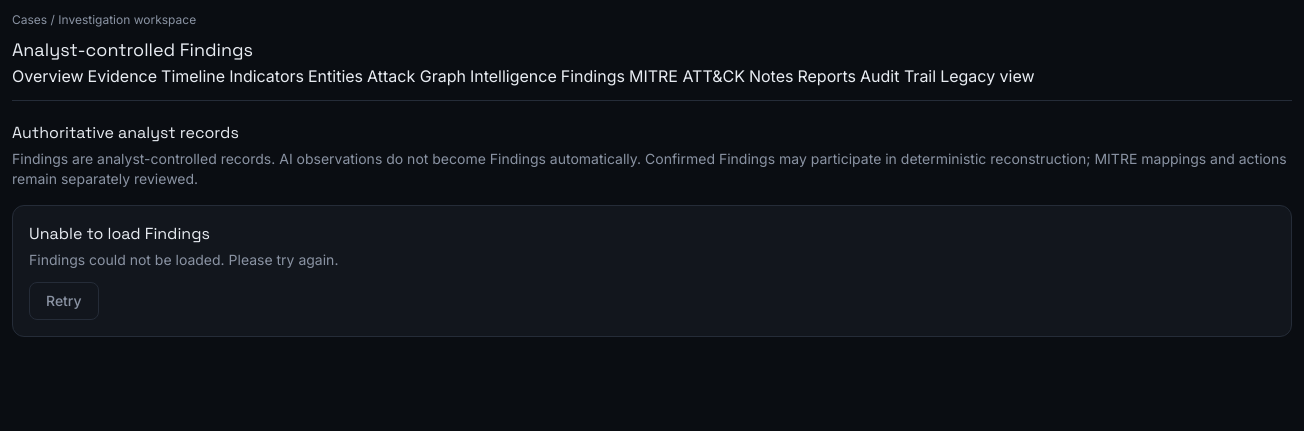
Test: FindingsWorkspace › offers a bounded retry without retaining prior list state
Expected: the heading "Unable to load Findings" is shown, [29, 223, 210, 244]
Click the button "Retry" at (64, 301), box [29, 282, 99, 320]
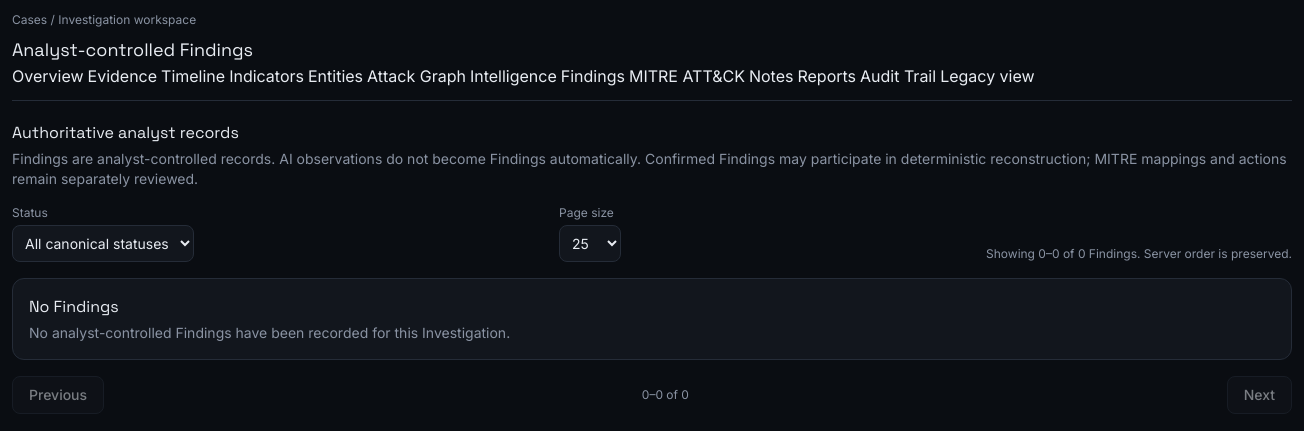
Expected: the heading "No Findings" is shown, [29, 296, 119, 317]
